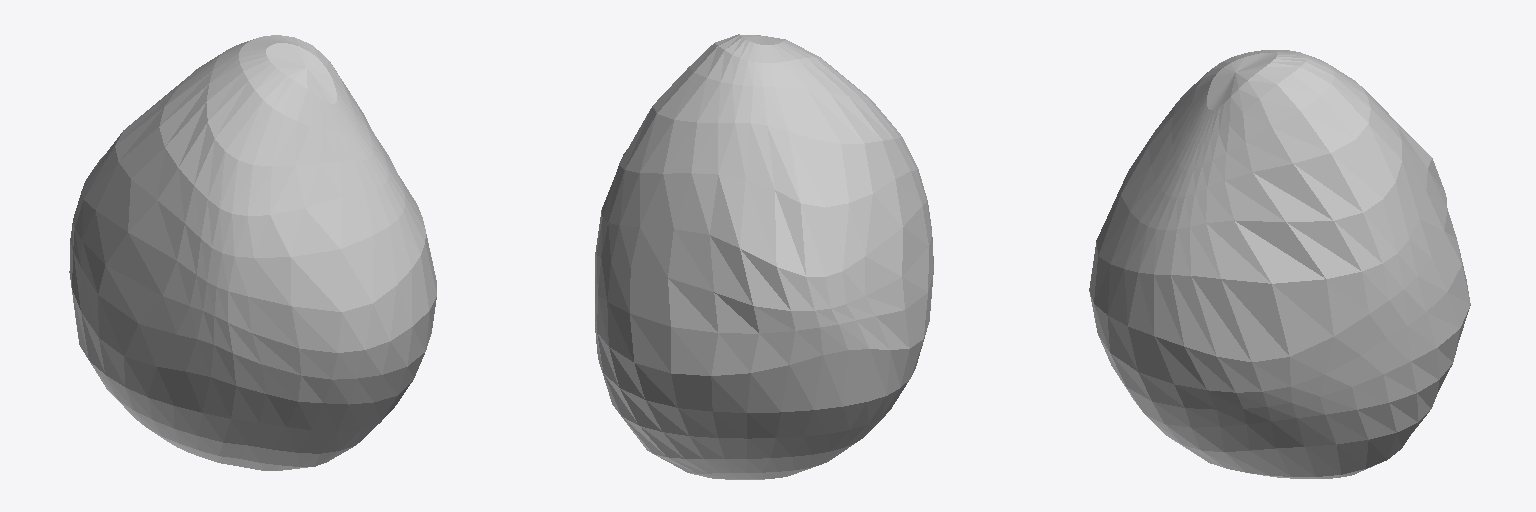
Rendered from crystal.obj.
3 views of the same model, side by side, from view 1: azimuth 30°, elevation 25°; view 2: azimuth 150°, elevation 25°; view 3: azimuth 270°, elevation 25° (orthographic).
Parts seen in each view (by area): view 1: Sphere.005_Sphere.006; view 2: Sphere.005_Sphere.006; view 3: Sphere.005_Sphere.006.
Part boxes in pixels (bbox=[...]): Sphere.005_Sphere.006: bbox=[69, 35, 436, 470]; Sphere.005_Sphere.006: bbox=[595, 34, 933, 479]; Sphere.005_Sphere.006: bbox=[1089, 50, 1470, 478].
Bounding box in the file's own units: 0.9252 × 1.24 × 1.02.